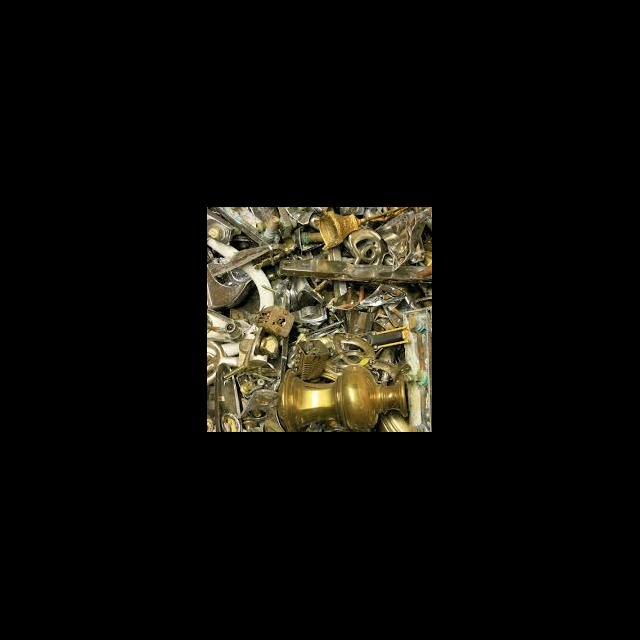metal: (276, 362, 410, 432), (276, 250, 432, 294), (312, 208, 406, 254), (322, 328, 377, 376), (342, 224, 390, 266), (288, 298, 334, 332), (254, 212, 286, 246), (216, 356, 252, 386), (250, 332, 288, 358)
